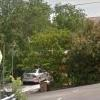Tree: (23, 5, 65, 73)
